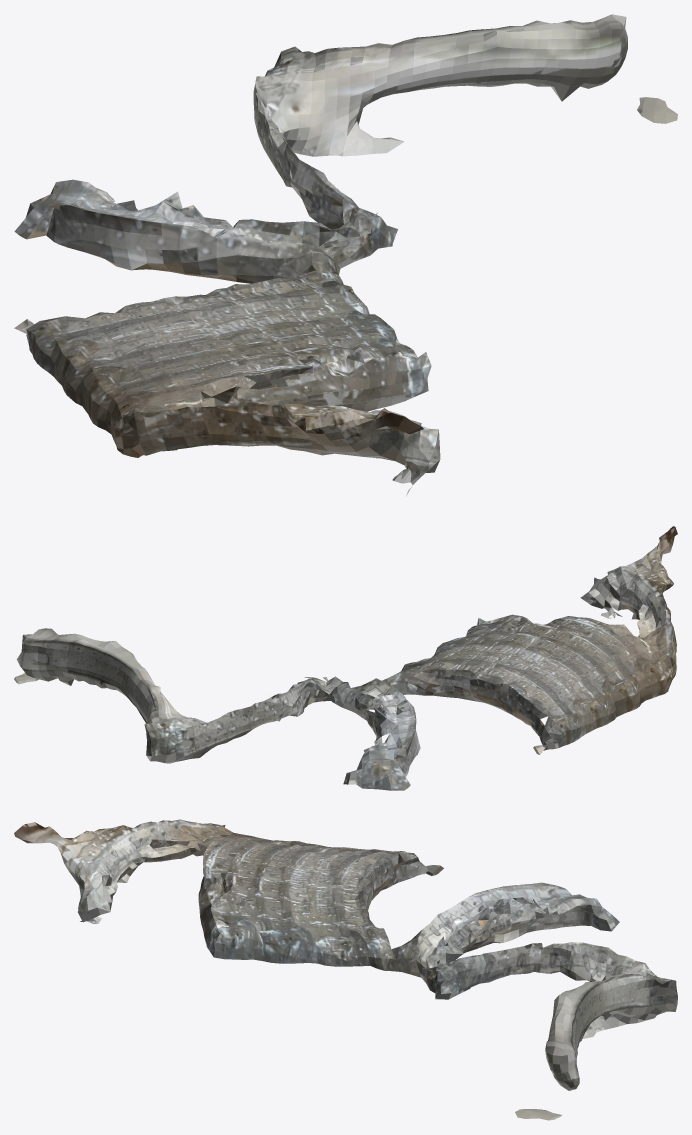
File: Kosti_Lowpoly.obj
The picture shows the model from 3 angles, top to bottom: view 1: azimuth 30°, elevation 25°; view 2: azimuth 150°, elevation 25°; view 3: azimuth 270°, elevation 25°; orthographic projection. The views are drawn at different scales.
Parts seen in each view (by area): view 1: Kosti_Lowpoly_model.063; view 2: Kosti_Lowpoly_model.063; view 3: Kosti_Lowpoly_model.063.
Boxes of the visible parts, <box> form: Kosti_Lowpoly_model.063: <box>14,14,677,496</box>; Kosti_Lowpoly_model.063: <box>14,526,677,790</box>; Kosti_Lowpoly_model.063: <box>14,819,677,1120</box>.
Size of the model in its own units: 3.78 by 0.5587 by 4.
Materials: 1 (1 with a texture image).
